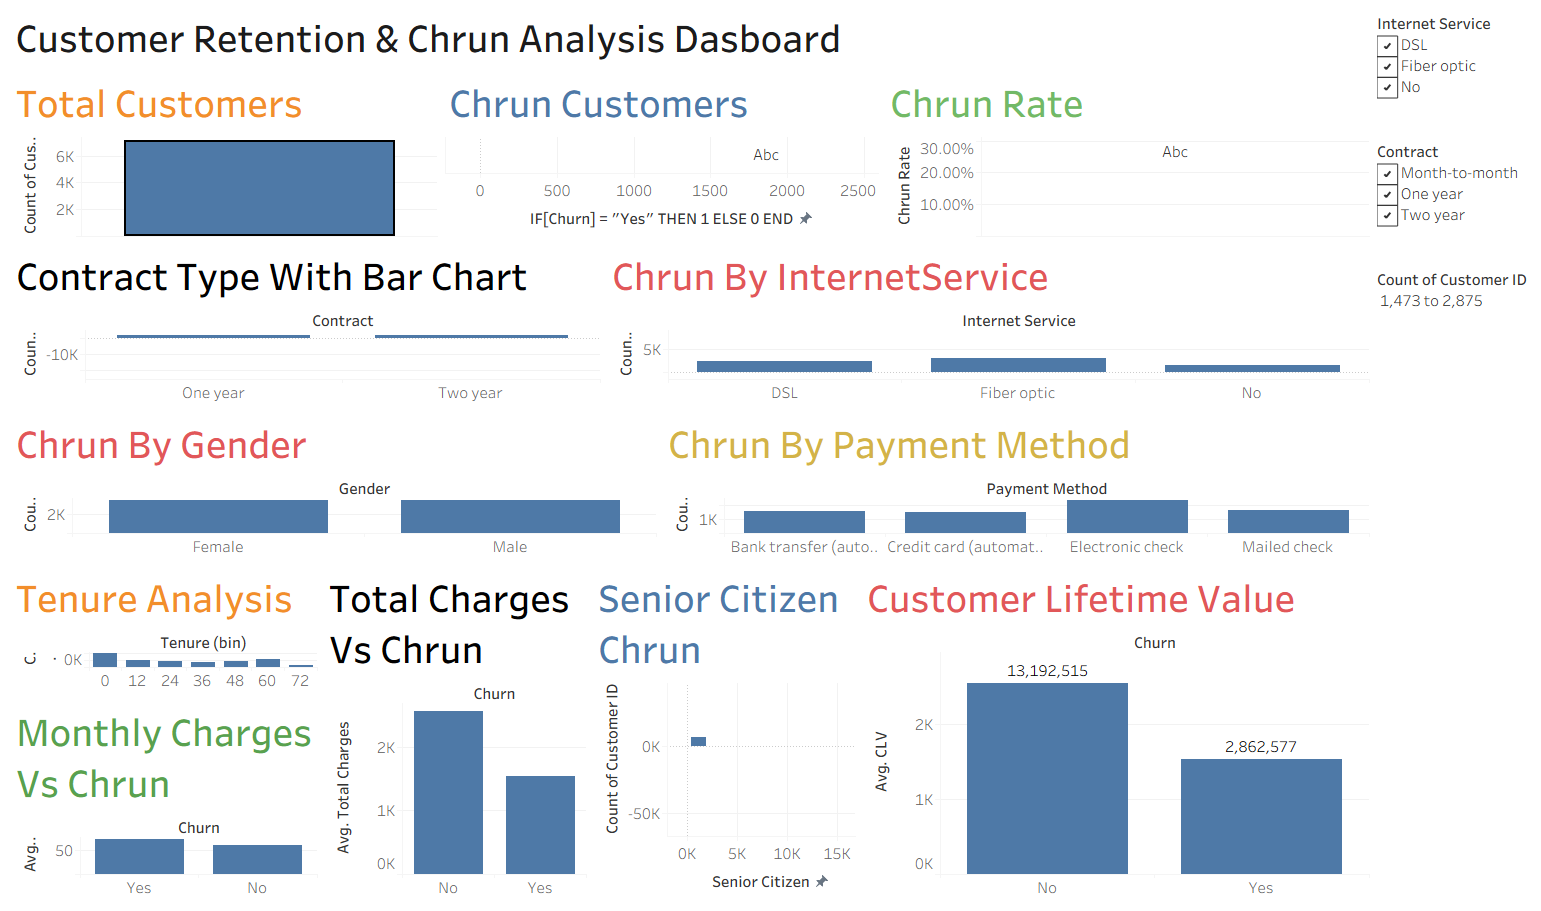

What the dashboard file says about the page in this screenshot:
{"tool":"tableau","page":{"name":"Dashboard 1","canvas":[1000,1000],"units":"permille","ordinal":0},"visuals":[{"type":"title","box":[5.2,8.8,885.8,64.8]},{"type":"filter","title":"Sheet 6","param":"[federated.0iiapbl01gx3rg18dyuu11d9cvdp].[none:InternetService:nk]","box":[891,8.8,103.8,140.5]},{"type":"worksheet","title":"Sheet 13","mark":"Automatic","rows":["customerID"],"box":[5.2,73.5,281.1,189.6]},{"type":"worksheet","title":"Sheet 2","mark":"Text","cols":["Calculation_0400230416510982"],"box":[286.2,73.5,286.1,189.6]},{"type":"worksheet","title":"Sheet 3","mark":"Text","rows":["Calculation_0400230418931722"],"box":[572.3,73.5,318.7,189.6]},{"type":"filter","title":"Sheet 4","param":"[federated.0iiapbl01gx3rg18dyuu11d9cvdp].[none:Contract:nk]","box":[891,149.3,103.8,140.5]},{"type":"worksheet","title":"Sheet 4","mark":"Bar","rows":["customerID"],"cols":["Contract"],"box":[5.2,263.1,386.8,184.6]},{"type":"worksheet","title":"Sheet 6","mark":"Bar","rows":["customerID"],"cols":["InternetService"],"box":[391.9,263.1,499,184.6]},{"type":"filter","title":"Sheet 4","param":"[federated.0iiapbl01gx3rg18dyuu11d9cvdp].[cnt:customerID:qk]","box":[891,289.8,103.8,80.1]},{"type":"worksheet","title":"Sheet 5","mark":"Automatic","rows":["customerID"],"cols":["gender"],"box":[5.2,447.7,423.3,169.2]},{"type":"worksheet","title":"Sheet 7","mark":"Bar","rows":["customerID"],"cols":["PaymentMethod"],"box":[428.5,447.7,462.5,169.2]},{"type":"worksheet","title":"Sheet 8","mark":"Bar","rows":["customerID"],"cols":["Tenure (bin)"],"box":[5.2,616.9,203.2,147.1]},{"type":"worksheet","title":"Sheet 10","mark":"Automatic","rows":["TotalCharges"],"cols":["Churn"],"box":[208.4,616.9,174.6,374.4]},{"type":"worksheet","title":"Sheet 11","mark":"Bar","rows":["customerID"],"cols":["SeniorCitizen"],"box":[383,616.9,174.5,374.4]},{"type":"worksheet","title":"Sheet 12","mark":"Bar","rows":["Calculation_0400230428733471"],"cols":["Churn"],"box":[557.5,616.9,333.5,374.4]},{"type":"worksheet","title":"Sheet 9","mark":"Bar","rows":["MonthlyCharges"],"cols":["Churn"],"box":[5.2,764,203.2,227.3]}]}

Visuals, with their boxes on the dashboard's canvas, which has no fixed pixel size, in thousandths of its width and height (x1, y1, x2, y2). These are canvas units, not pixel positions in the 1541x911 screenshot, which may show the page scaled, cropped or inside an application window:
title: <bbox>5, 9, 891, 74</bbox>
"Sheet 6" filter: <bbox>891, 9, 995, 149</bbox>
"Sheet 13" worksheet: <bbox>5, 74, 286, 263</bbox>
"Sheet 2" worksheet (Text marks): <bbox>286, 74, 572, 263</bbox>
"Sheet 3" worksheet (Text marks): <bbox>572, 74, 891, 263</bbox>
"Sheet 4" filter: <bbox>891, 149, 995, 290</bbox>
"Sheet 4" worksheet (Bar marks): <bbox>5, 263, 392, 448</bbox>
"Sheet 6" worksheet (Bar marks): <bbox>392, 263, 891, 448</bbox>
"Sheet 4" filter: <bbox>891, 290, 995, 370</bbox>
"Sheet 5" worksheet: <bbox>5, 448, 428, 617</bbox>
"Sheet 7" worksheet (Bar marks): <bbox>428, 448, 891, 617</bbox>
"Sheet 8" worksheet (Bar marks): <bbox>5, 617, 208, 764</bbox>
"Sheet 10" worksheet: <bbox>208, 617, 383, 991</bbox>
"Sheet 11" worksheet (Bar marks): <bbox>383, 617, 558, 991</bbox>
"Sheet 12" worksheet (Bar marks): <bbox>558, 617, 891, 991</bbox>
"Sheet 9" worksheet (Bar marks): <bbox>5, 764, 208, 991</bbox>
